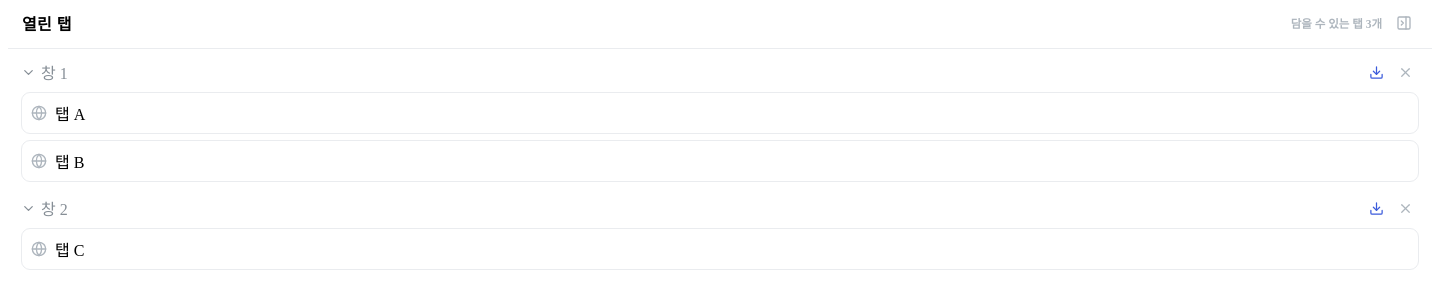
Test: OpenTabsPanel › 창 헤더를 클릭하면 해당 창의 탭이 접히고 다시 클릭하면 펼쳐진다
The width and height of the screenshot is (1440, 287).
Check: the text "탭 A" is shown, box [55, 106, 85, 123]
Click the button "창 1" at {"x": 44, "y": 72}, box [21, 60, 68, 84]
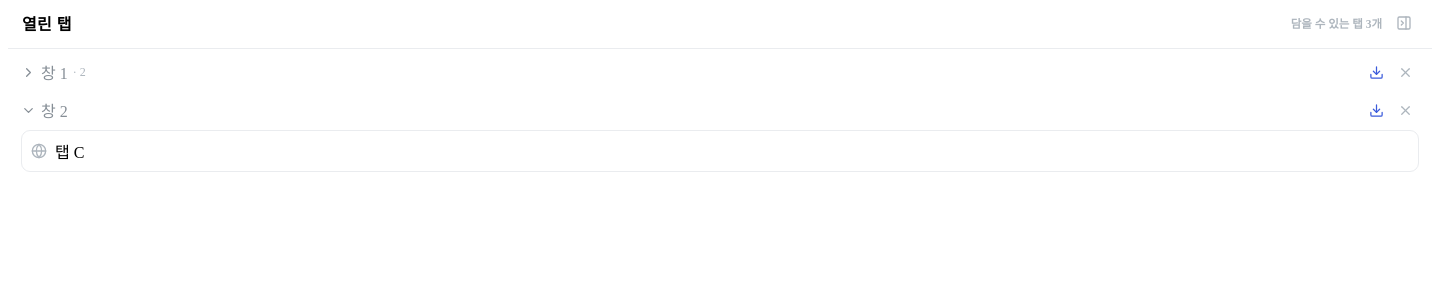
Check: the text "탭 C" is shown, box [55, 144, 84, 161]
Check: the button "탭 A" is gone
Click the button "창 1" at {"x": 44, "y": 72}, box [21, 60, 68, 84]
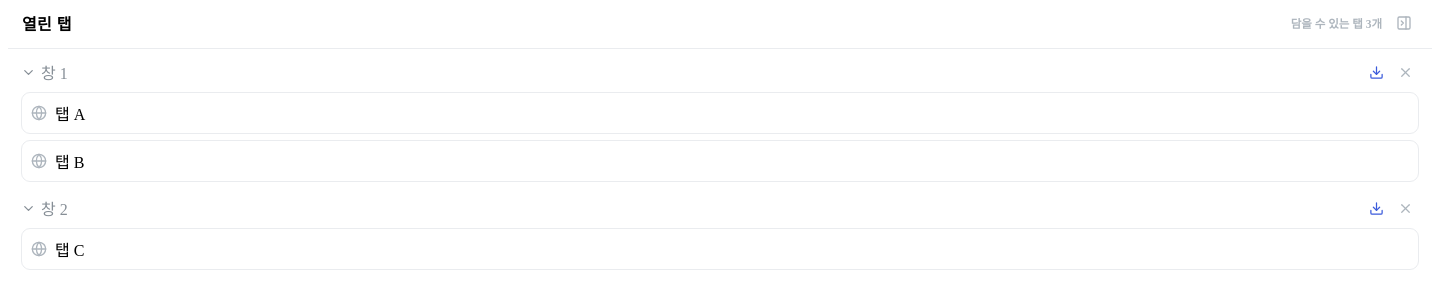
Check: the text "탭 A" is shown, box [55, 106, 85, 123]
